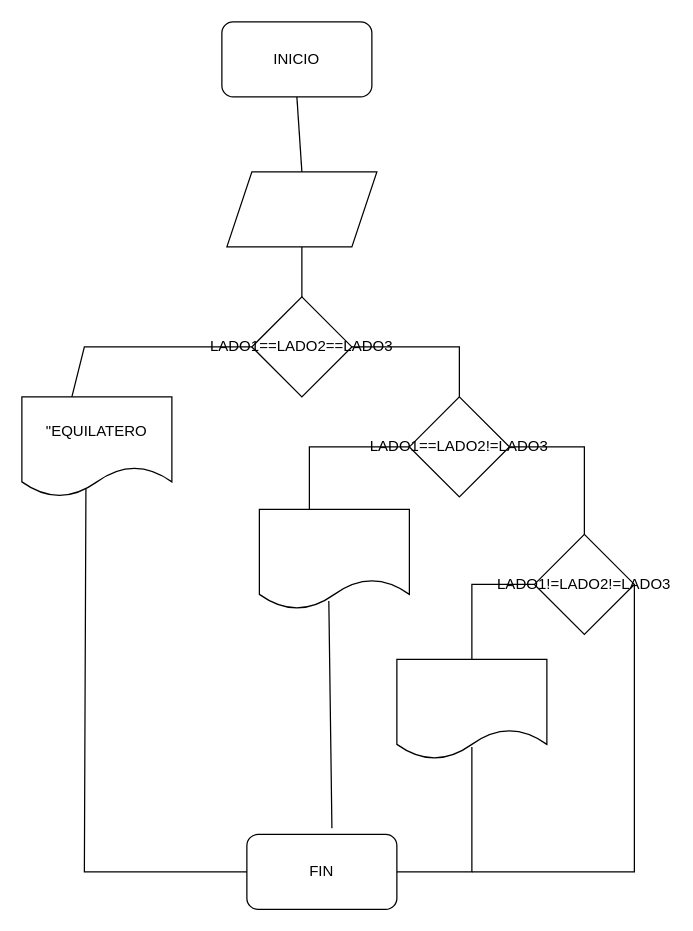
Image size: 693x931. Some labels were removed from this diagram. Each missing label, with the box of its shape:
"ESCALENO": (396, 658, 547, 759)
"ISOSCELES": (258, 508, 409, 609)
INGRESAR LADO 1,LADO2,LADO3: (226, 171, 377, 247)
